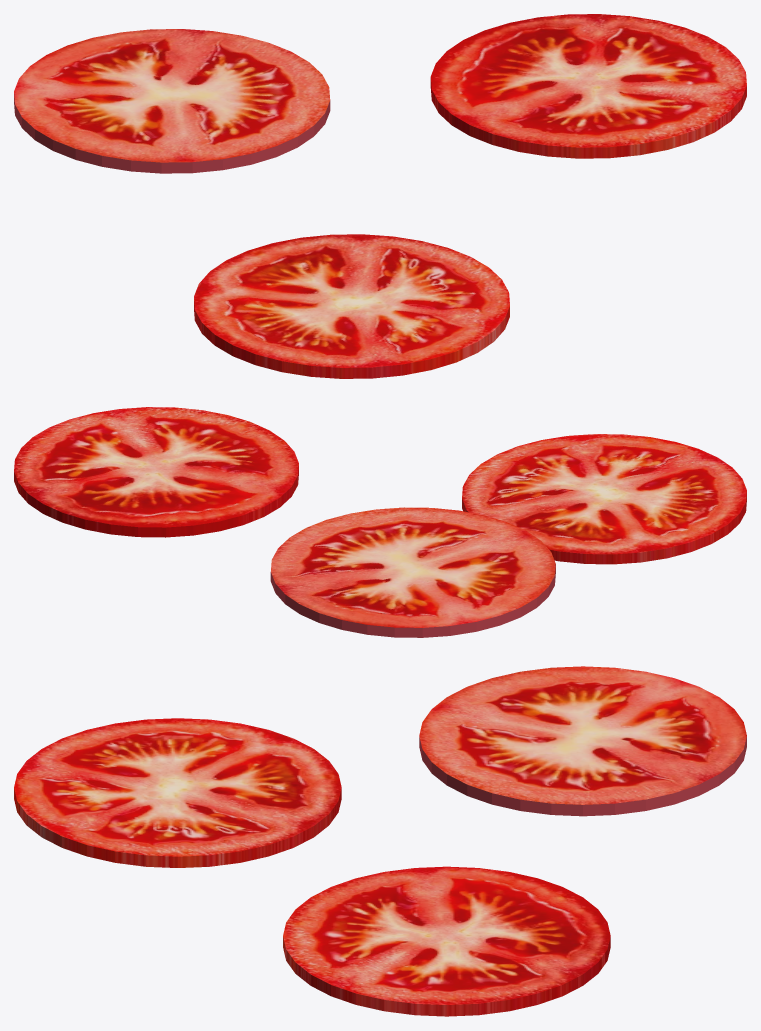
The model's file is pomodori_non_usare.fbx.
3 renders of one model, top to bottom at view 1: azimuth 30°, elevation 25°; view 2: azimuth 150°, elevation 25°; view 3: azimuth 270°, elevation 25°, orthographic. The views are drawn at different scales.
Visible parts, largest first — view 1: Tomato2, Tomato3, Tomato1; view 2: Tomato3, Tomato2, Tomato1; view 3: Tomato3, Tomato2, Tomato1.
Boxes of the visible parts, left/top/right/bottom form: Tomato2: left=430, top=14, right=746, bottom=158; Tomato3: left=14, top=29, right=330, bottom=173; Tomato1: left=194, top=234, right=509, bottom=378; Tomato3: left=270, top=507, right=555, bottom=637; Tomato2: left=14, top=407, right=298, bottom=537; Tomato1: left=462, top=434, right=746, bottom=564; Tomato3: left=419, top=666, right=746, bottom=816; Tomato2: left=283, top=866, right=610, bottom=1016; Tomato1: left=14, top=718, right=341, bottom=867.
Bounding box in the file's own units: 483 × 49.63 × 462.
